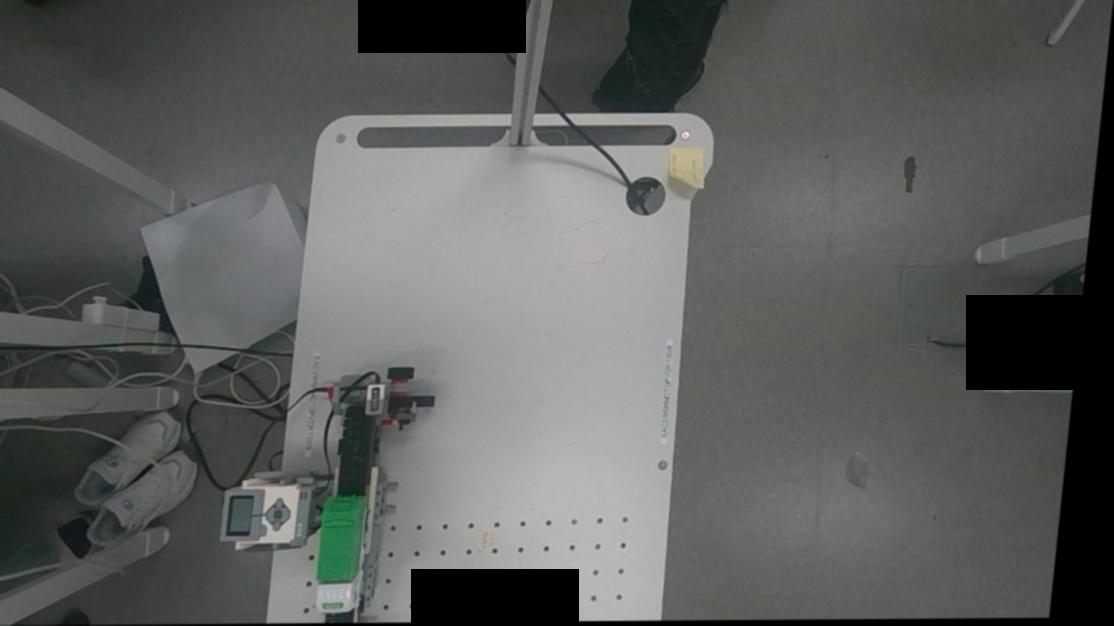truck: (304, 492, 381, 618)
